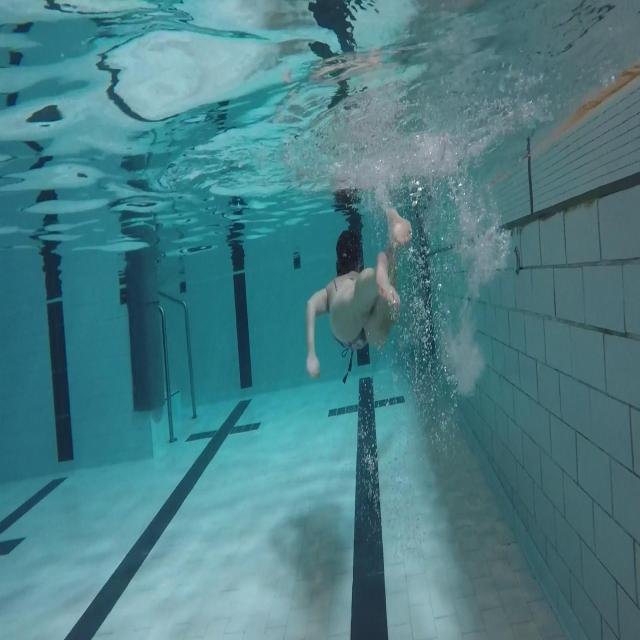human: (305, 205, 412, 380)
